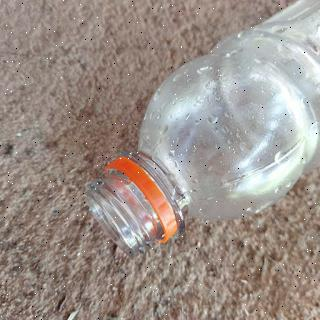Plastic-bottle: (83, 1, 320, 259)
